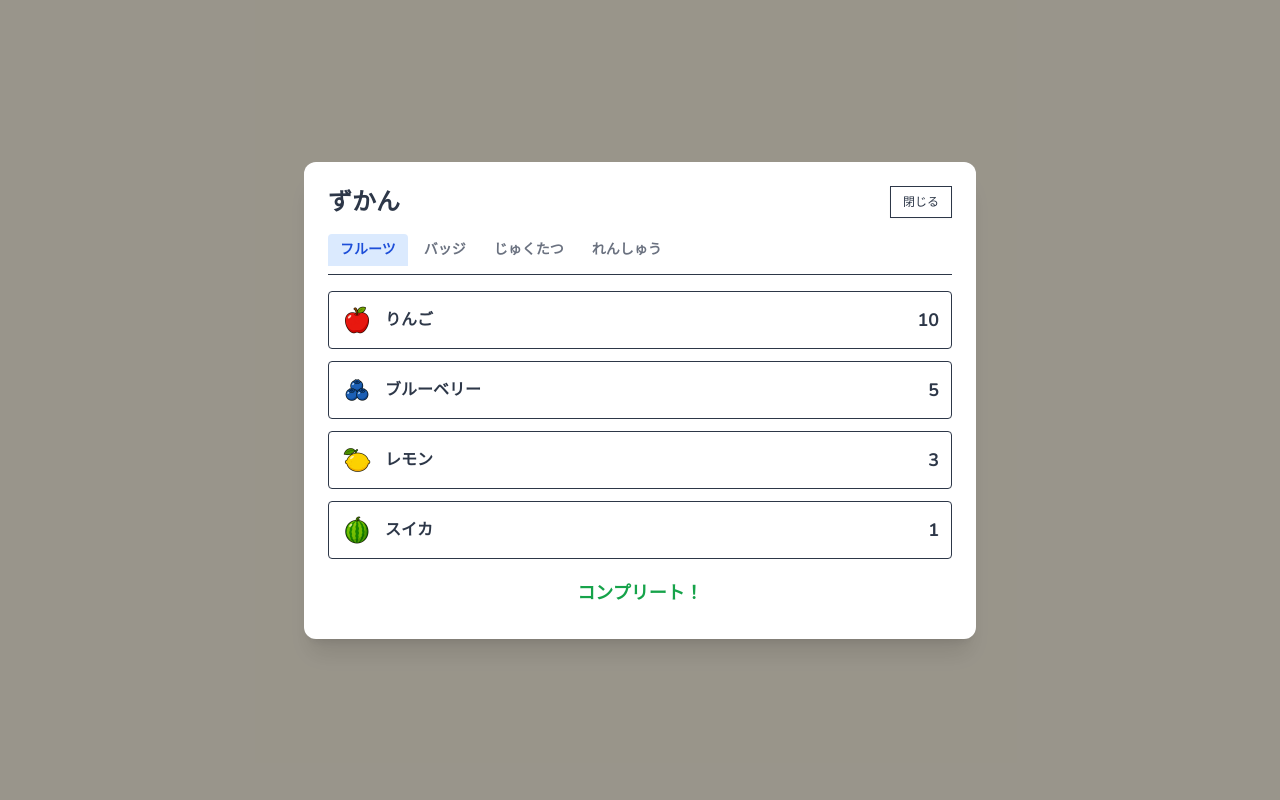
Test case: CollectionModal (Task 12 / design §13) › タブ切り替えでパネルが切り替わる
Click the tab with test id "collection-tab-badges" at {"x": 445, "y": 250}, box [412, 234, 478, 266]
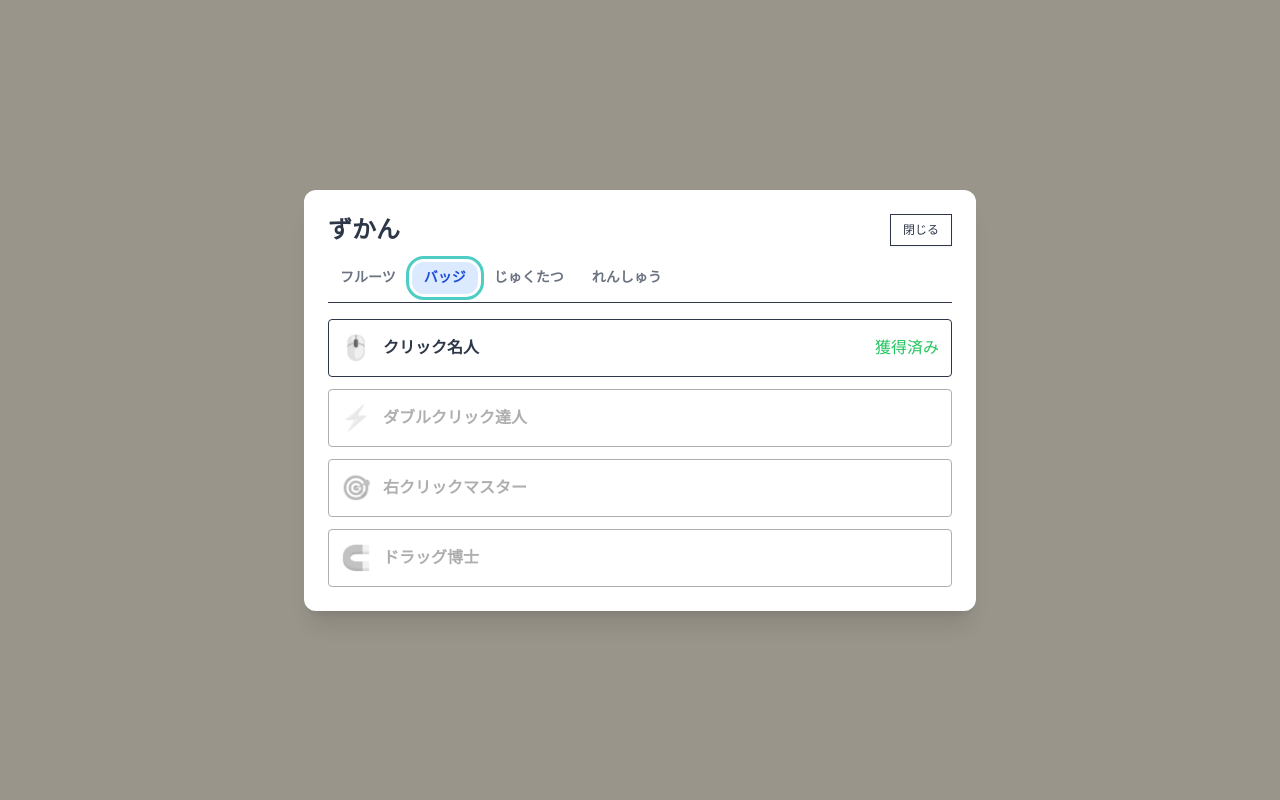
Expected: the panel with test id "collection-panel-badges" is shown, [328, 318, 952, 586]
Expected: the panel with test id "collection-panel-fruits" is gone
Click the tab with test id "collection-tab-fruits" at {"x": 368, "y": 278}, box [328, 262, 408, 294]
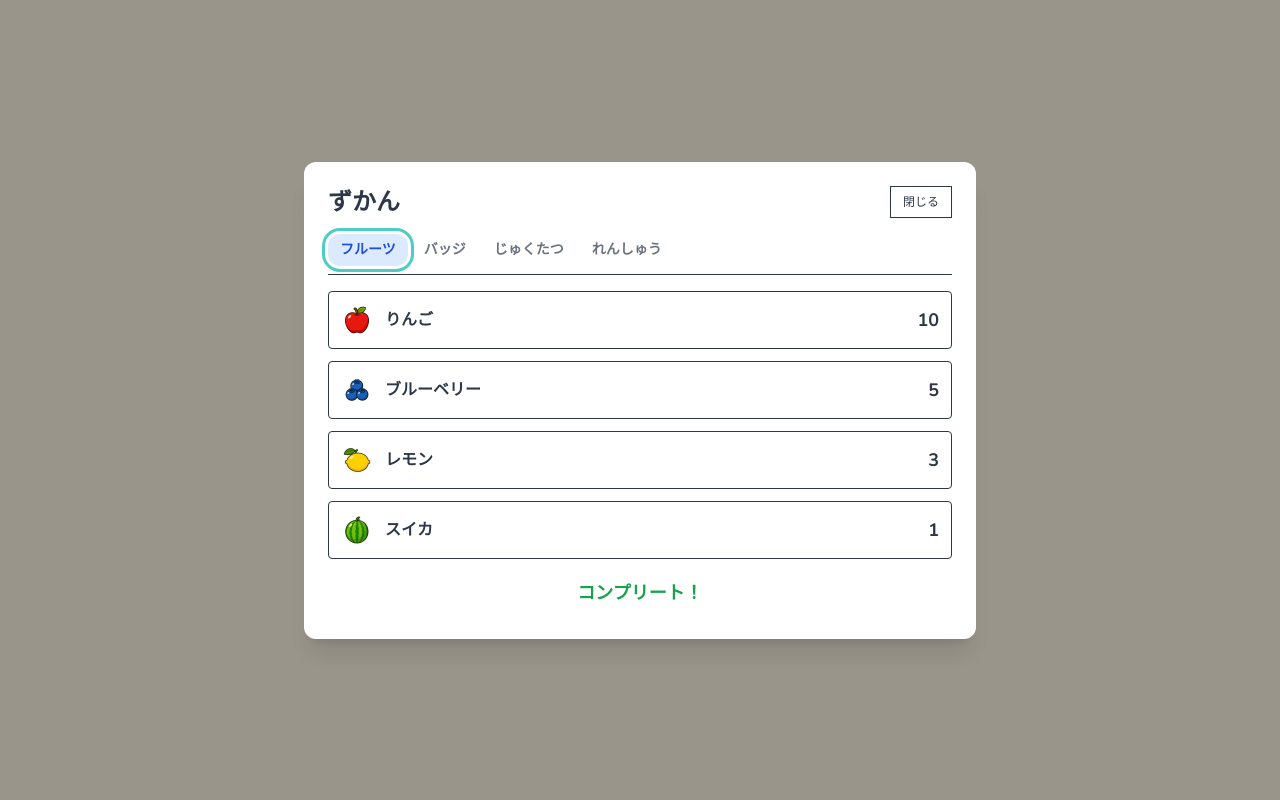
Expected: the panel with test id "collection-panel-fruits" is shown, [328, 290, 952, 614]
